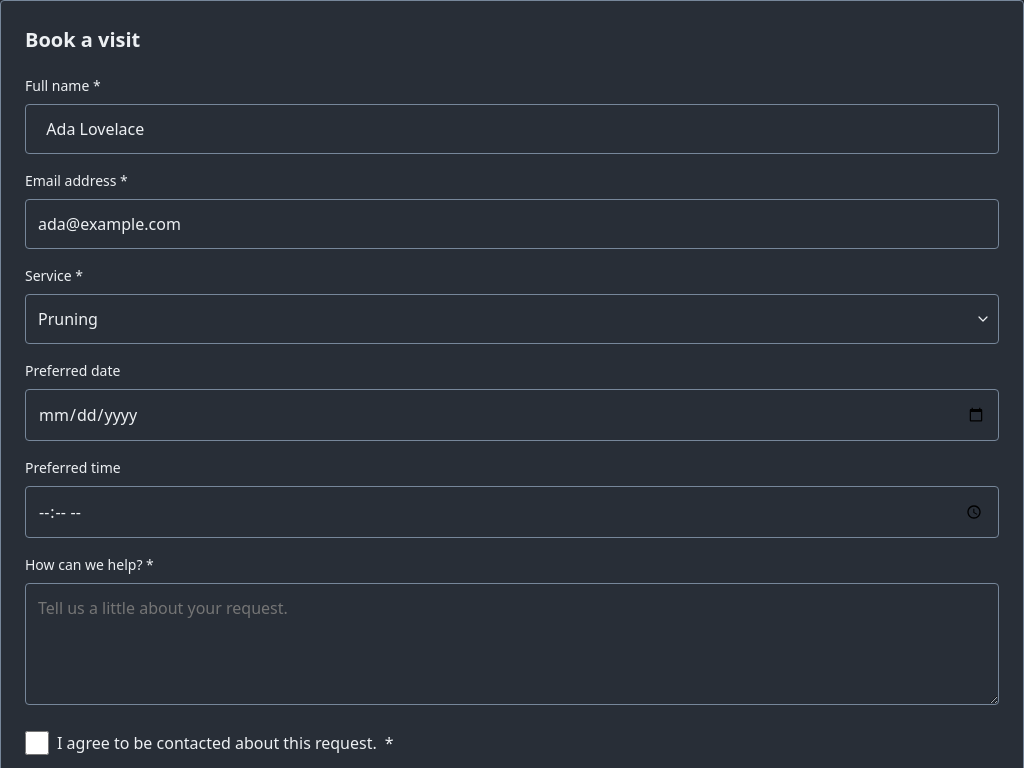
RequestForm › submits normalized appointment fields, confirms success, and resets when requested
Check: the heading "Book a visit" is shown, box [25,26,140,53]
Check: the date field labelled "Preferred date" is shown, box [25,389,999,441]
Replace the text in the field labelled "Full name *" with "  Grace Hopper " at (512, 129), box [25,104,999,154]
Replace the text in the field labelled "Email address *" with " grace@example.com " at (512, 224), box [25,199,999,249]
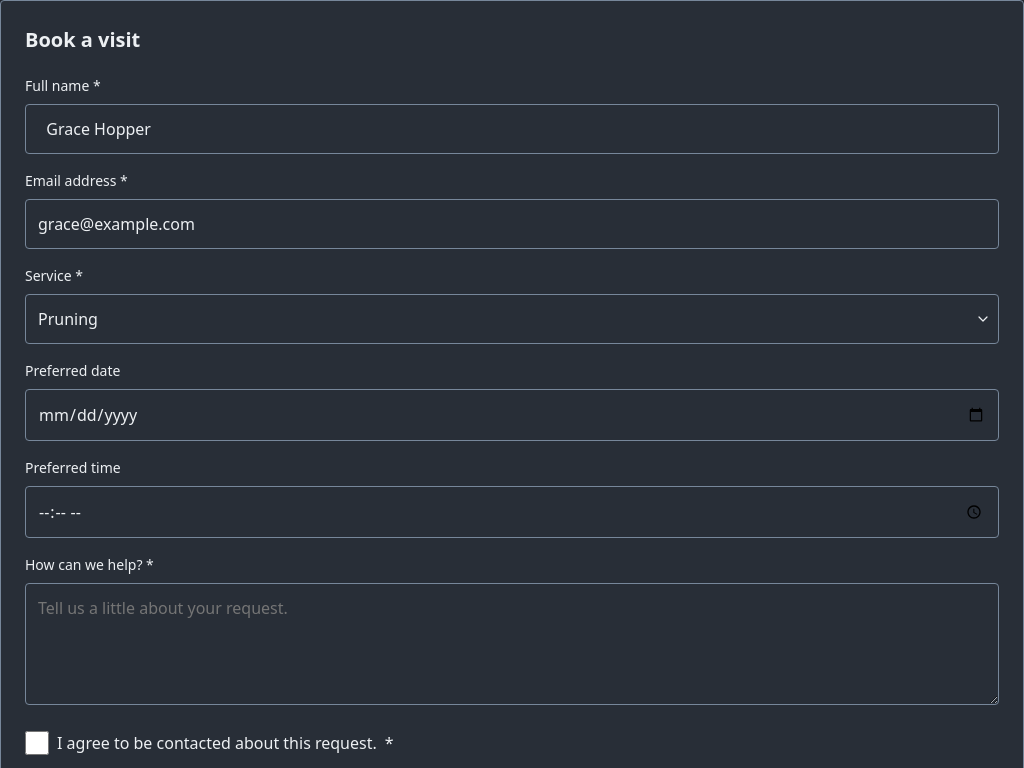
Select "Pruning" in the dropdown labelled "Service *" at (512, 319), box [25,294,999,344]
Type "  Shape the hedge  " into the text box labelled "How can we help? *".
click(512, 644); type("  Shape the hedge  ")  # box [25,583,999,705]
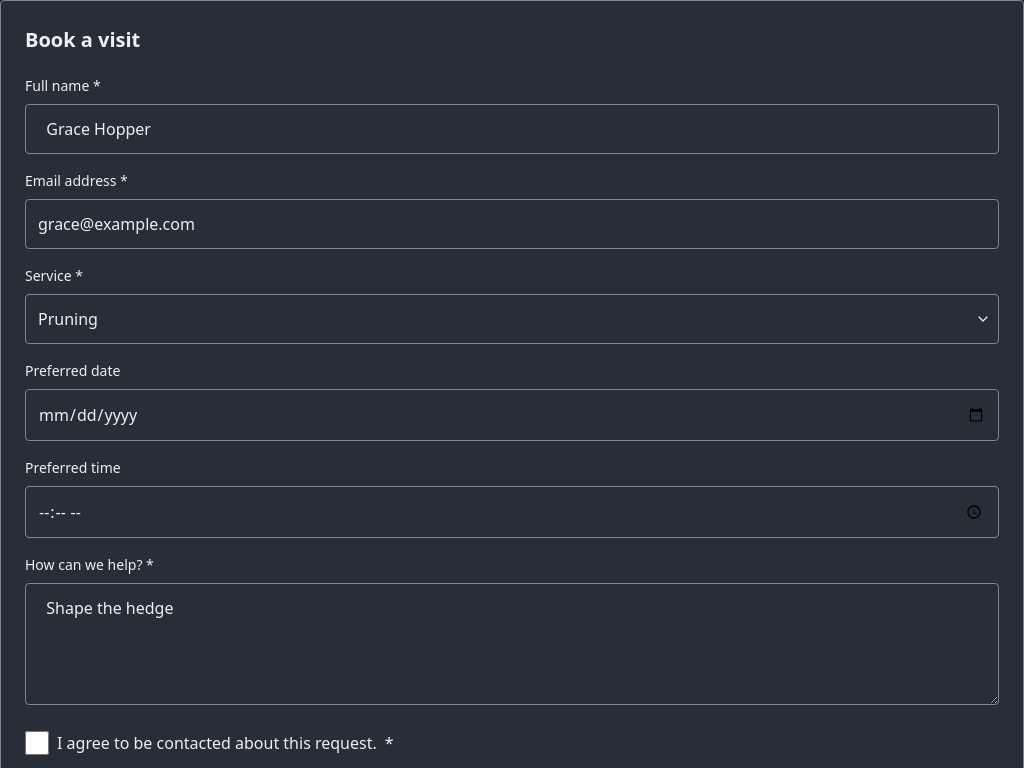
Type "2026-11-12" into the date field labelled "Preferred date".
click(512, 415); type("2026-11-12")  # box [25,389,999,441]
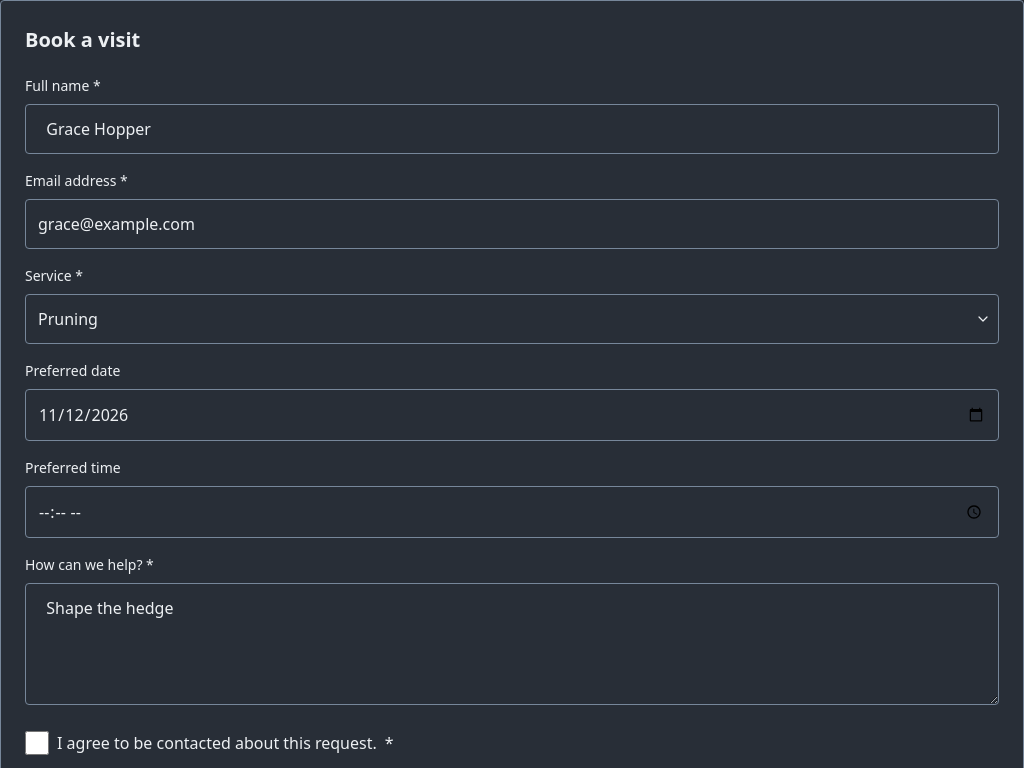
Type "10:15" into the time field labelled "Preferred time".
click(512, 512); type("10:15")  # box [25,486,999,538]
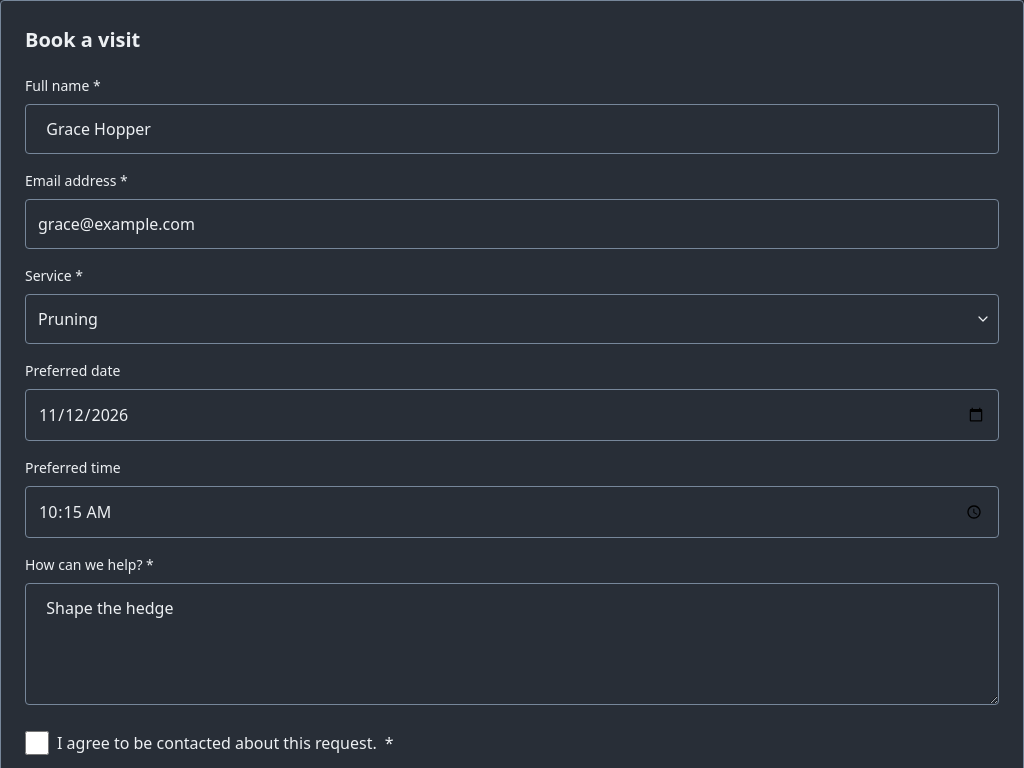
Click the checkbox labelled "I agree to be contacted about this request. *".
click(37, 743)  # box [25,731,49,755]
(page scrolled)
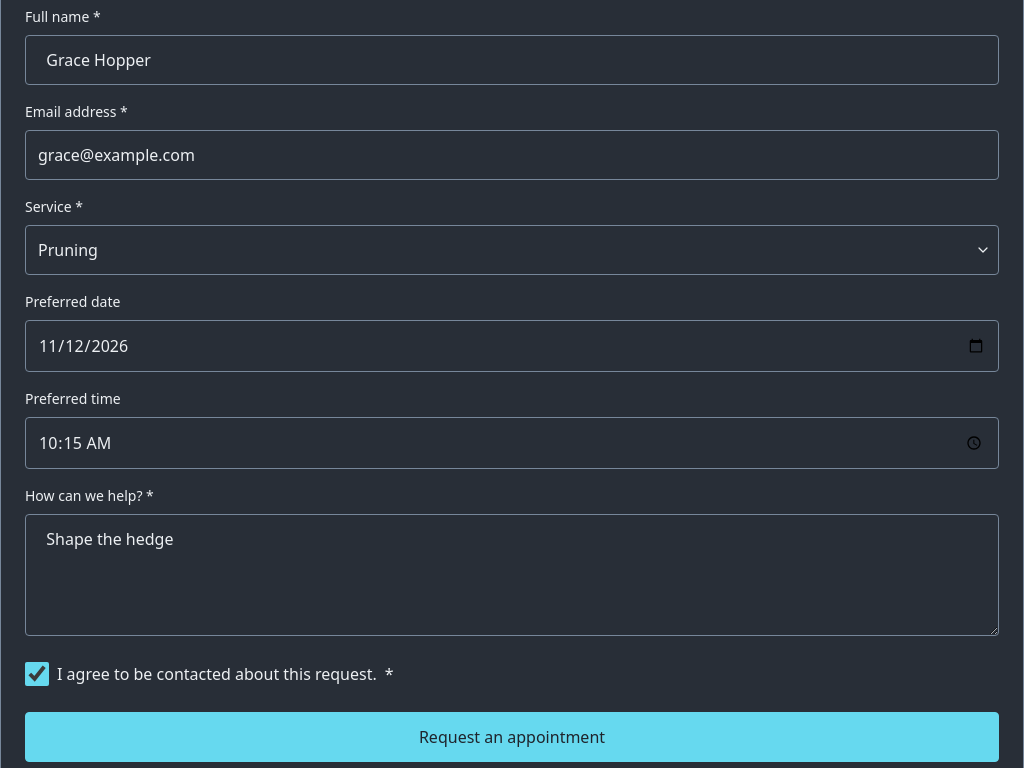
Submit the form named "Book a visit request form"
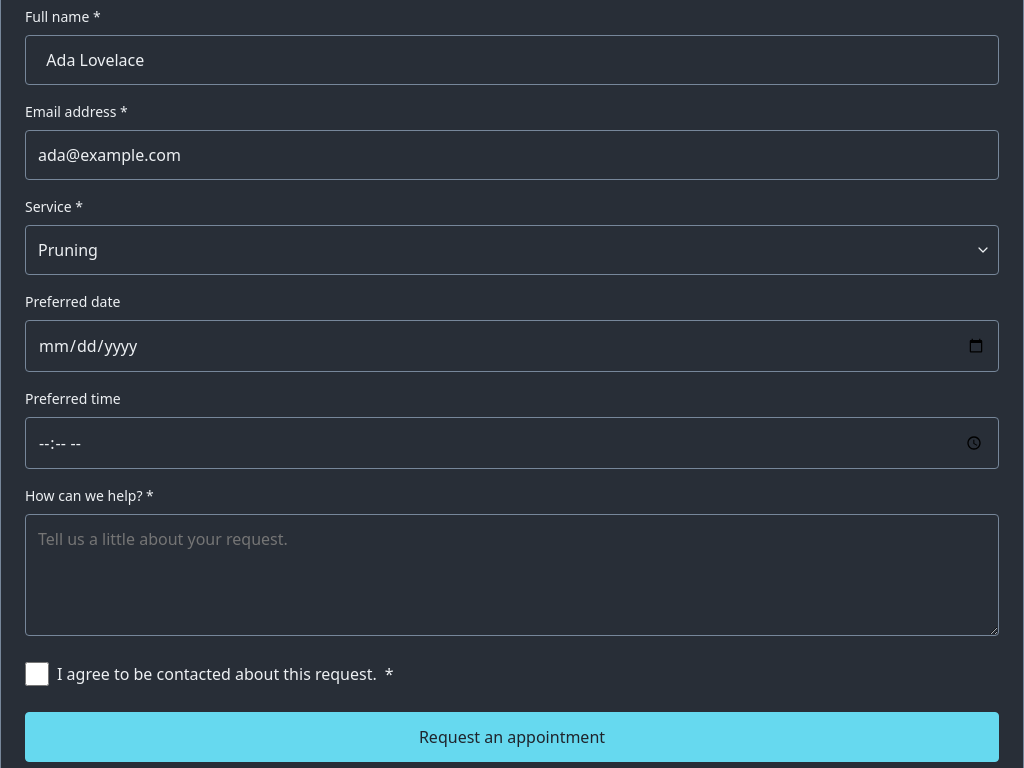
Check: the field labelled "Full name *" holds "Ada Lovelace", box [25,35,999,85]
